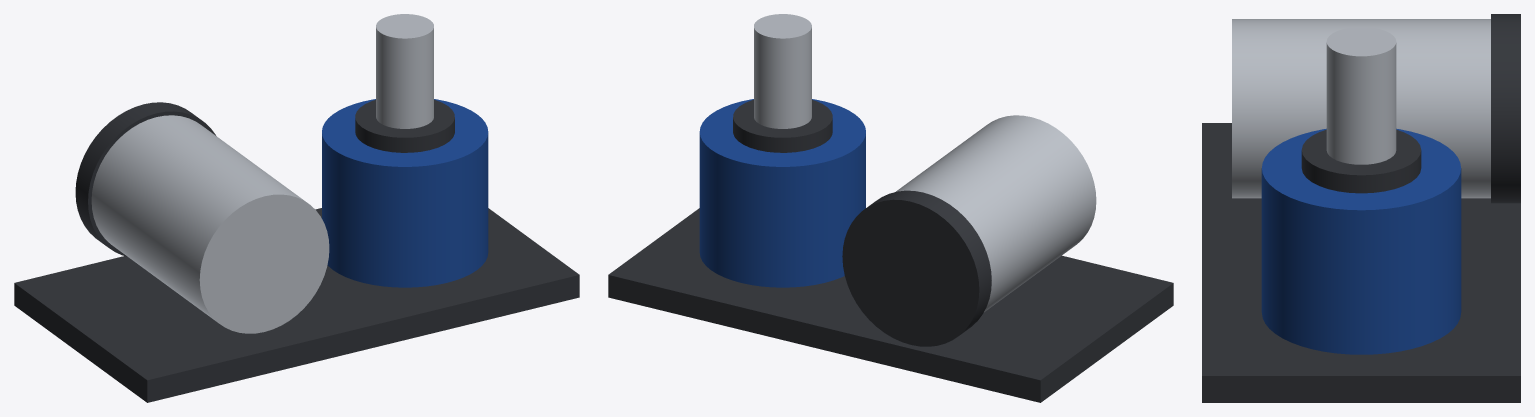
Rendered from pump.glb.
The picture shows the model from 3 angles, left to right: view 1: azimuth 30°, elevation 25°; view 2: azimuth 150°, elevation 25°; view 3: azimuth 270°, elevation 25°; orthographic projection. The views are drawn at different scales.
Visible parts, largest first — view 1: Plate, Motor, Pump body, Outlet, Fan cover, Flange; view 2: Plate, Pump body, Motor, Fan cover, Outlet, Flange; view 3: Plate, Pump body, Motor, Outlet, Fan cover, Flange.
Part boxes in pixels (x1=…): Plate: x1=14, y1=208, x2=579, y2=402; Motor: x1=91, y1=115, x2=329, y2=333; Pump body: x1=322, y1=99, x2=488, y2=287; Outlet: x1=376, y1=14, x2=433, y2=128; Fan cover: x1=75, y1=102, x2=215, y2=256; Flange: x1=355, y1=99, x2=454, y2=152; Plate: x1=608, y1=208, x2=1173, y2=402; Pump body: x1=699, y1=99, x2=865, y2=287; Motor: x1=896, y1=115, x2=1096, y2=312; Fan cover: x1=842, y1=190, x2=991, y2=346; Outlet: x1=754, y1=14, x2=811, y2=128; Flange: x1=733, y1=99, x2=832, y2=152; Plate: x1=1202, y1=123, x2=1520, y2=402; Pump body: x1=1261, y1=128, x2=1461, y2=354; Motor: x1=1232, y1=19, x2=1490, y2=198; Outlet: x1=1326, y1=27, x2=1396, y2=164; Fan cover: x1=1491, y1=14, x2=1520, y2=203; Flange: x1=1301, y1=129, x2=1421, y2=193.
Size of the model in its own units: 0.6 by 0.33 by 0.32.
